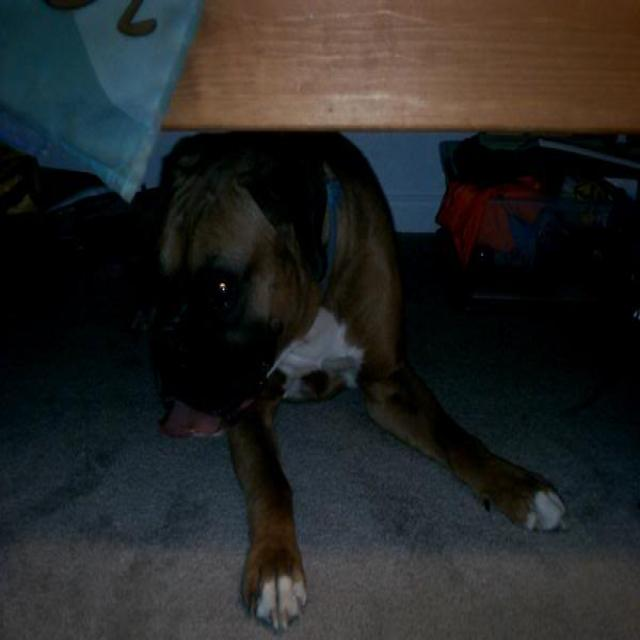Dog: (111, 94, 599, 605)
